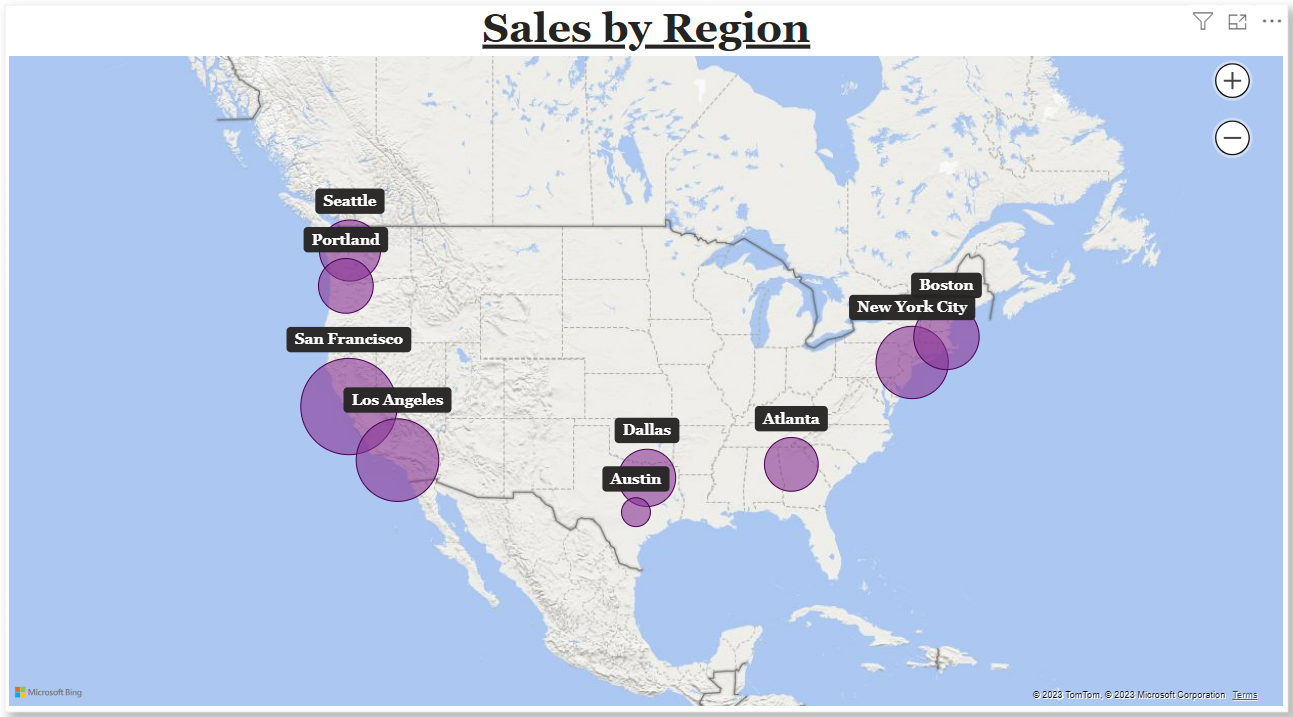

The page's visual inventory and layout, read from the dashboard file:
{"tool":"powerbi","page":{"name":"Map Visual","canvas":[1280,720],"ordinal":1},"visuals":[{"type":"map","title":"Sales by Region","fields":{"Category":["Sales Combined.Region"],"Size":["Sum(Sales Combined.Sales)"]},"box":[12.2,12.2,1255.4,691.9],"z":0}]}

Visuals, with their boxes in screenshot pixels (x1, y1, x2, y2), scaled from the page's 1280x720 canvas onto the 1293x717 screenshot:
"Sales by Region" map: left=12, top=12, right=1280, bottom=701
